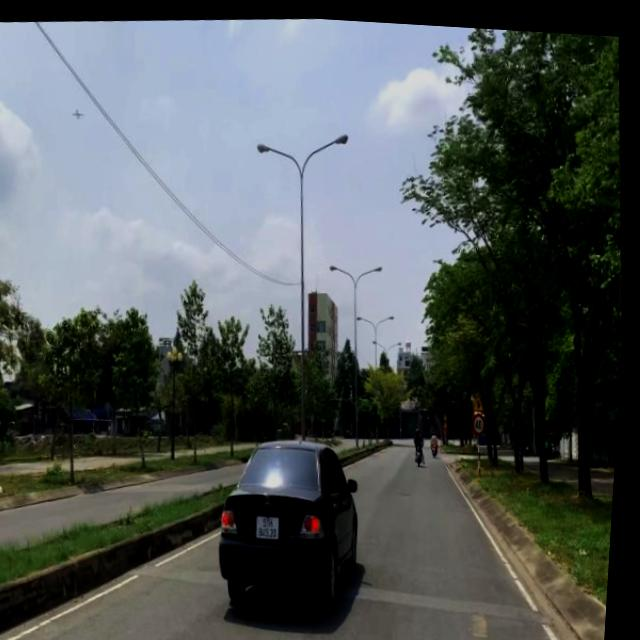Duong giao nhau cung cap: (447, 407, 452, 415)
Giao nhau voi duong khong uu tien ben phai: (475, 386, 490, 406)
Nguoi di bo cat ngang: (447, 414, 453, 422)
Toc do toi da cho phep: (476, 407, 491, 429)
